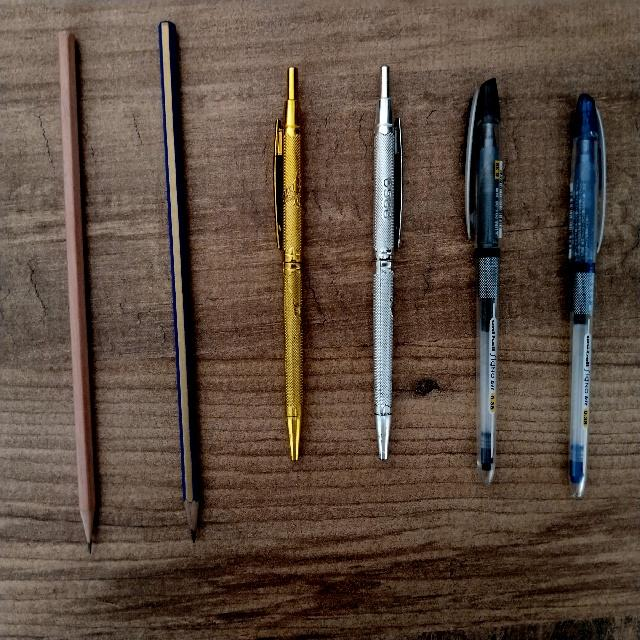pen: (465, 79, 502, 483), (569, 94, 605, 497)
pencil: (158, 21, 199, 540), (59, 31, 94, 550)
signature pen: (274, 67, 302, 460), (373, 66, 401, 459)
